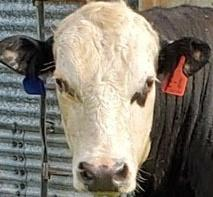muzzles: (68, 157, 137, 195)
